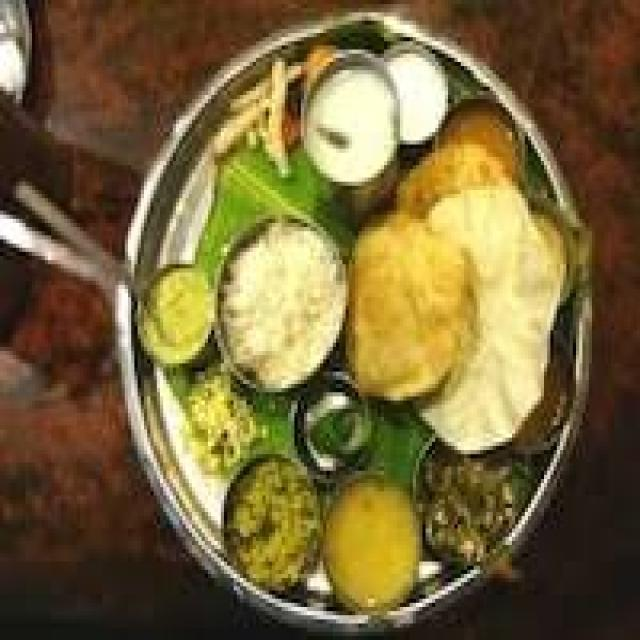dal: (215, 222, 342, 381)
sambar-rasam: (294, 55, 405, 183)
